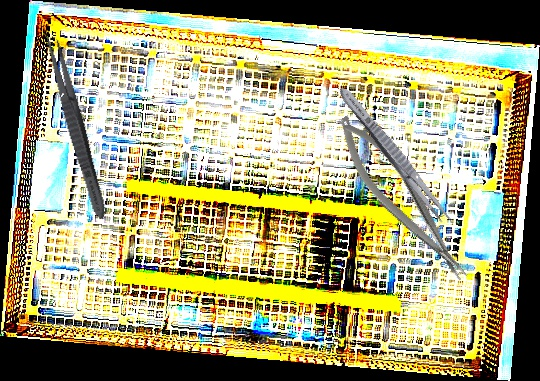Dressing Forceps: (334, 83, 457, 229), (39, 29, 112, 223)
Needle Holder: (326, 105, 476, 294)
